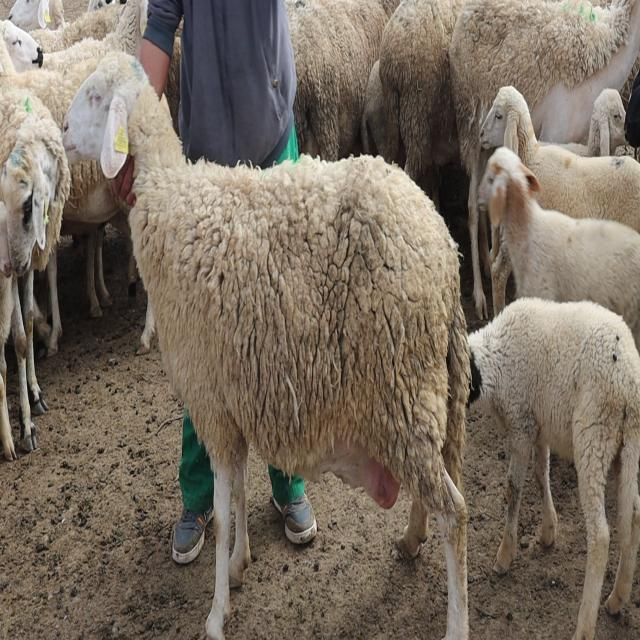Score_2: (62, 52, 469, 639)
